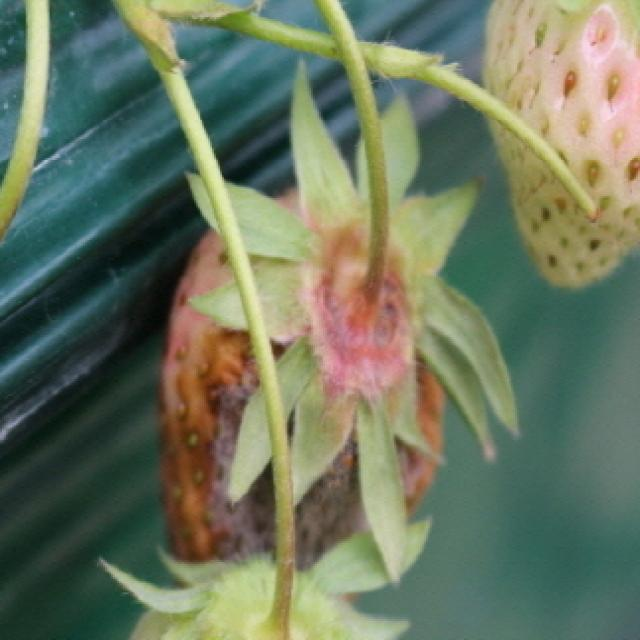Gray Mold: (157, 227, 449, 572)
